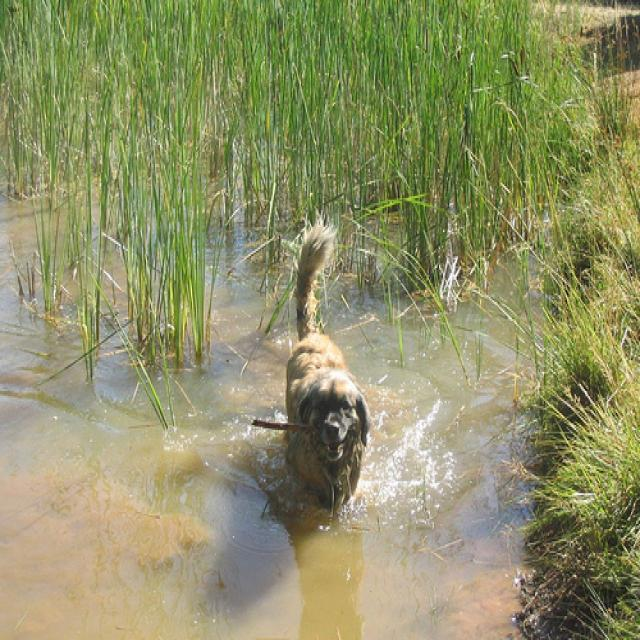dog-leonberger: (280, 217, 372, 519)
